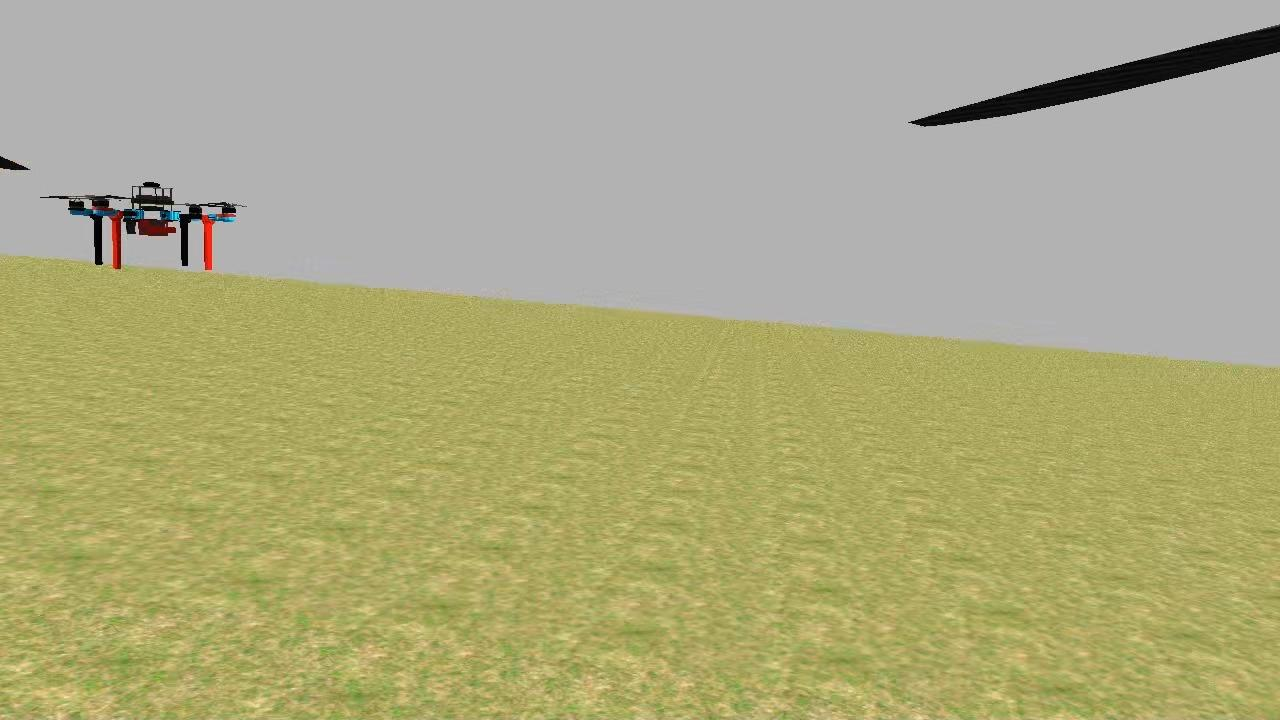UAV: (54, 176, 248, 288)
